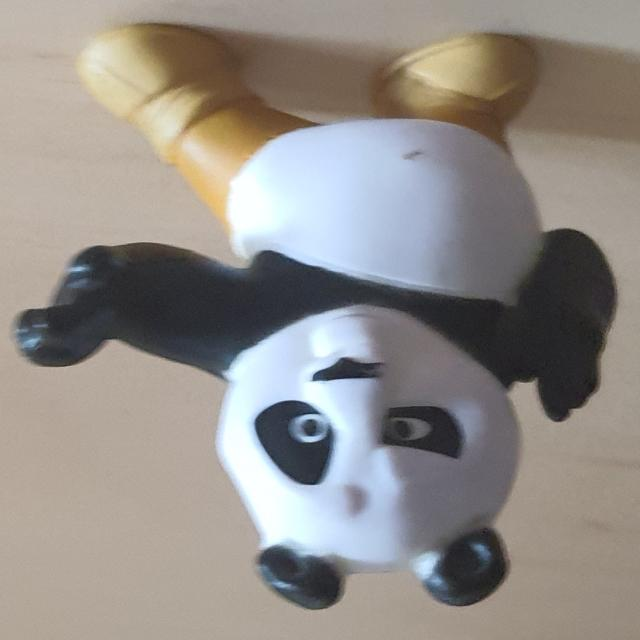Panda: (13, 24, 619, 612)
